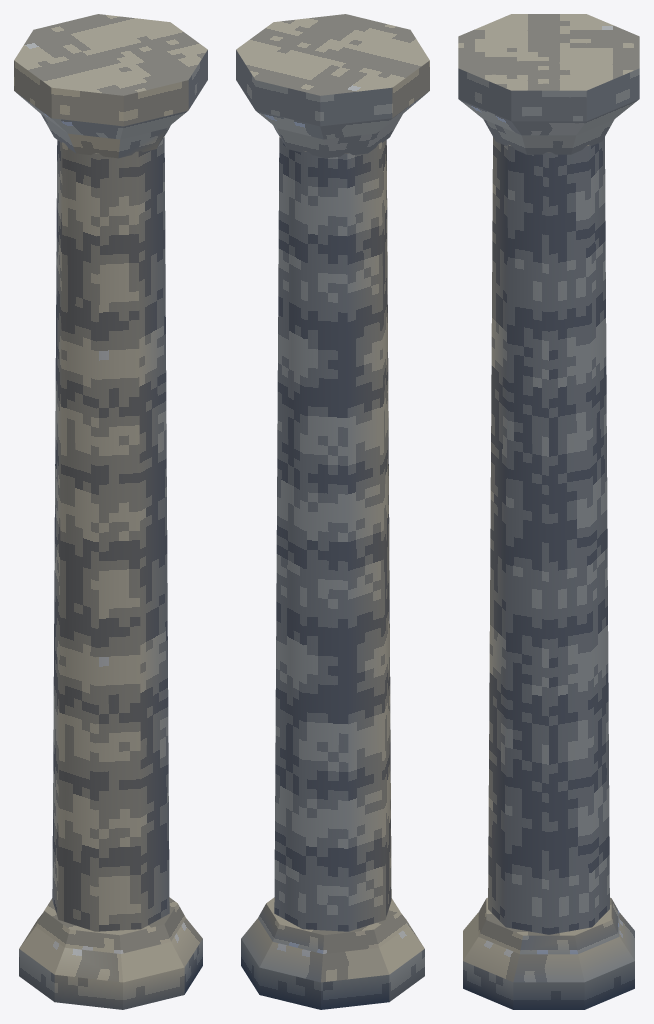
The model's file is cst.pillar.glb.
3 views of the same model, side by side, from view 1: azimuth 30°, elevation 25°; view 2: azimuth 150°, elevation 25°; view 3: azimuth 270°, elevation 25° (orthographic).
Visible parts, largest first — view 1: kit_shaft, kit_mould; view 2: kit_shaft, kit_mould; view 3: kit_shaft, kit_mould.
Boxes of the visible parts, bbox=[...] form: kit_shaft: bbox=[52, 136, 169, 931]; kit_mould: bbox=[14, 14, 207, 1009]; kit_shaft: bbox=[274, 136, 391, 931]; kit_mould: bbox=[236, 14, 429, 1009]; kit_shaft: bbox=[488, 137, 609, 934]; kit_mould: bbox=[458, 14, 639, 1009].
Bounding box in the file's own units: 1.07 × 6 × 1.07.
Materials: 2 (2 with a texture image).
